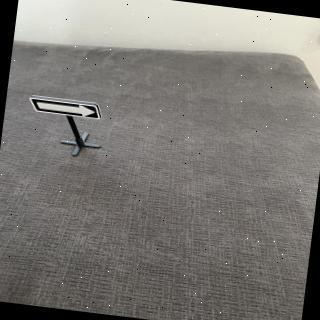sign_oneway_right: (28, 95, 105, 123)
